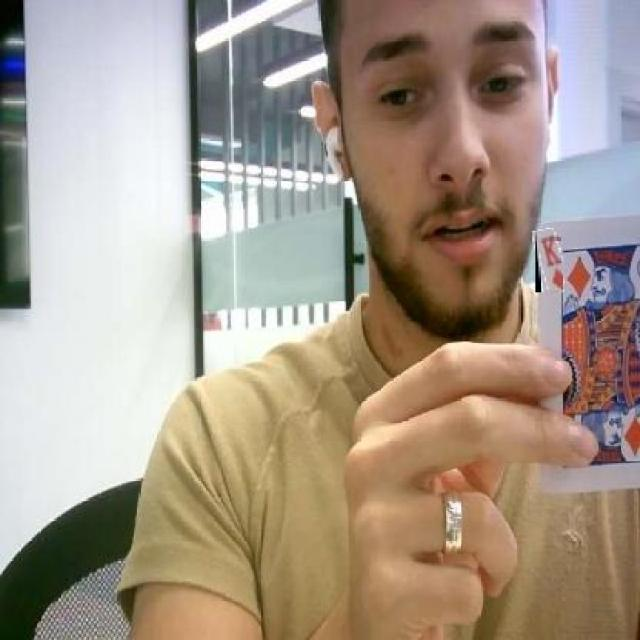KD: (535, 230, 563, 292)
